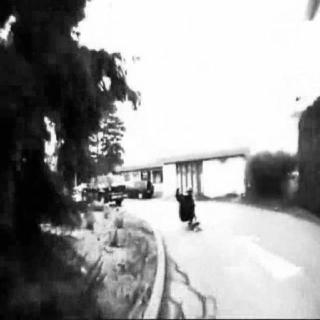other: (98, 247, 144, 295)
